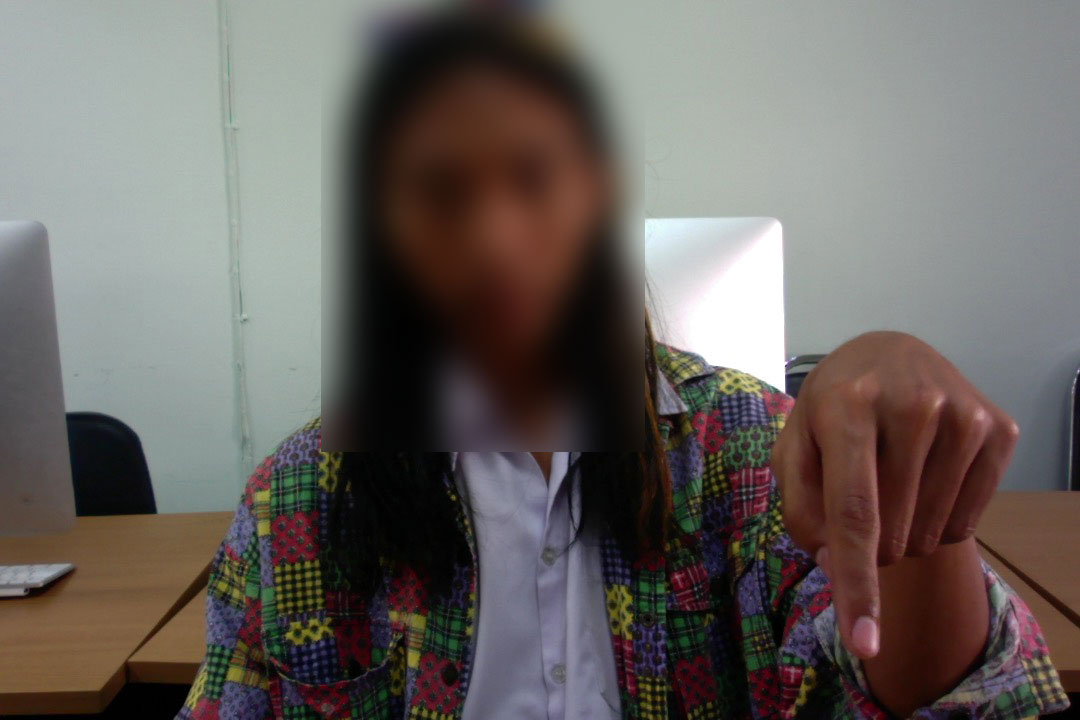por: (772, 308, 1022, 669)
